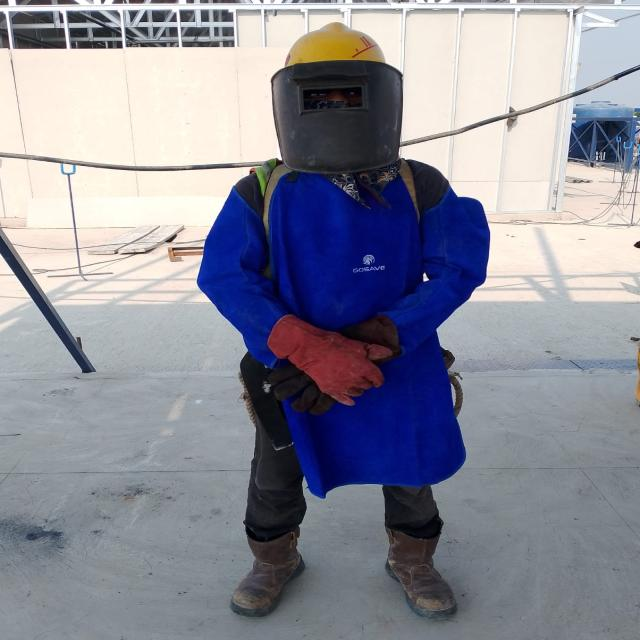gloves: (257, 306, 398, 416)
helmet: (278, 22, 413, 64)
